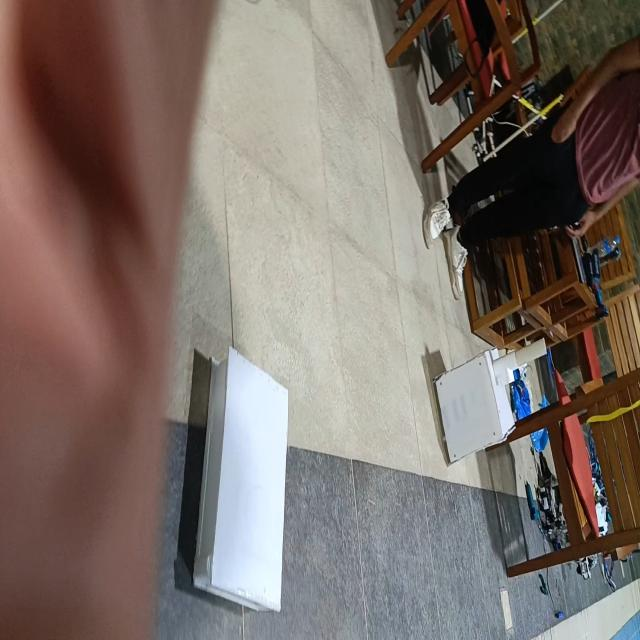Cube: (432, 336, 550, 465)
Cuboid: (192, 344, 289, 613)
